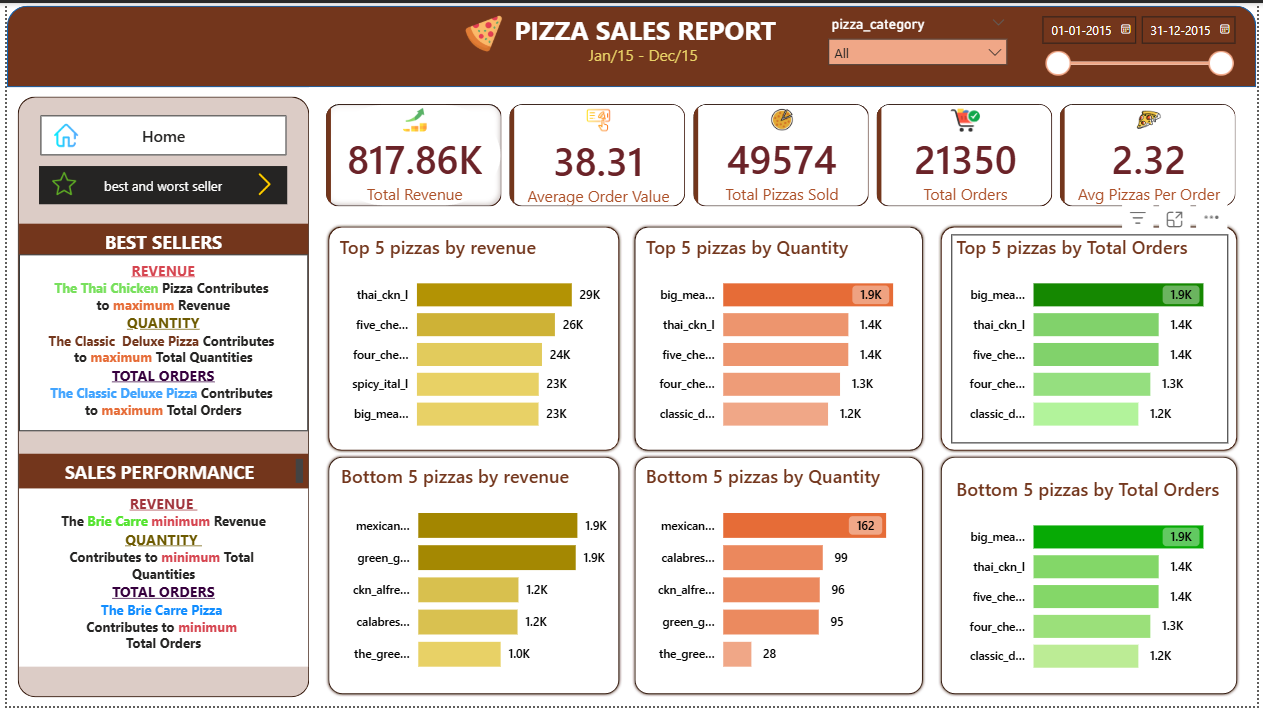

The page's visual inventory and layout, read from the dashboard file:
{"tool":"powerbi","page":{"name":"best and worst seller","canvas":[1280,720],"ordinal":1},"visuals":[{"type":"shape","box":[11,95.9,298.6,615],"z":0},{"type":"shape","box":[0,2.7,1279.4,83.6],"z":1000},{"type":"textbox","box":[500,4.1,316.4,46.6],"z":2000},{"type":"textbox","box":[590.4,37,137,38.4],"z":3000},{"type":"image","box":[464.3,12.3,47.9,38.4],"z":4000},{"type":"cardVisual","fields":{"Data":["pizza_sales.Total Revenue","pizza_sales.Average Order Value","pizza_sales.Total Pizzas Sold","pizza_sales.Total Orders","pizza_sales.Avg Pizzas Per Order"]},"box":[309.6,86.3,969.8,139.7],"z":5000},{"type":"shape","box":[326,226,304.1,235.6],"z":6000},{"type":"shape","box":[953.4,226,309.6,235.6],"z":7000},{"type":"shape","box":[326,461.6,304.1,249.3],"z":8000},{"type":"shape","box":[639.7,461.6,301.3,249.3],"z":9000},{"type":"shape","box":[953.4,461.6,309.6,249.3],"z":10000},{"type":"textbox","box":[12.3,226,295.9,41.1],"z":11000},{"type":"textbox","box":[12.3,257.5,295.9,180.8],"z":12000},{"type":"textbox","box":[12.3,461.6,295.9,35.6],"z":13000},{"type":"textbox","box":[12.3,497.2,295.9,182.2],"z":14000},{"type":"slicer","fields":{"Values":["pizza_sales.pizza_category"]},"box":[831.4,8.2,202.7,64.4],"z":15000},{"type":"slicer","fields":{"Values":["pizza_sales.order_date"]},"box":[1047.9,4.1,216.4,71.2],"z":16000},{"type":"shape","box":[639.7,226,301.3,235.6],"z":17000},{"type":"barChart","title":"Top 5 pizzas by revenue","fields":{"Category":["pizza_sales.pizza_name_id"],"Y":["pizza_sales.Total Revenue"]},"box":[335.6,237,284.9,213.7],"z":18000},{"type":"barChart","title":"Bottom 5 pizzas by revenue","fields":{"Category":["pizza_sales.pizza_name_id"],"Y":["pizza_sales.Total Revenue"]},"box":[337,471.2,283.5,227.4],"z":19000},{"type":"barChart","title":"Top 5 pizzas by Quantity","fields":{"Category":["pizza_sales.pizza_name_id"],"Y":["pizza_sales.Total Pizzas Sold"]},"box":[649.3,237,283.5,213.7],"z":20000},{"type":"barChart","title":"Bottom 5 pizzas by Quantity","fields":{"Category":["pizza_sales.pizza_name_id"],"Y":["pizza_sales.Total Pizzas Sold"]},"box":[649.3,471.2,283.5,227.4],"z":21000},{"type":"barChart","title":"Top 5 pizzas by Total Orders","fields":{"Category":["pizza_sales.pizza_name_id"],"Y":["pizza_sales.Total Pizzas Sold"]},"box":[967,237,283.5,213.7],"z":22000},{"type":"barChart","title":"Bottom 5 pizzas by Total Orders","fields":{"Category":["pizza_sales.pizza_name_id"],"Y":["pizza_sales.Total Pizzas Sold"]},"box":[967,484.9,283.5,213.7],"z":23000},{"type":"pageNavigator","box":[34.2,115.1,252,41.1],"z":24000},{"type":"pageNavigator","box":[32.9,167.1,254.8,39.7],"z":25000},{"type":"image","box":[241.1,174,45.2,23.3],"z":26000},{"type":"image","box":[37,123.3,46.6,24.7],"z":27000},{"type":"image","box":[34.2,172.6,49.3,24.7],"z":28000}]}

Visuals, with their boxes in screenshot pixels (x1, y1, x2, y2), scaled from the page's 1280x720 canvas onto the 1263x710 screenshot:
shape: box(11, 95, 305, 701)
shape: box(0, 3, 1262, 85)
textbox: box(493, 4, 806, 50)
textbox: box(583, 36, 718, 74)
image: box(458, 12, 505, 50)
cardVisual - pizza_sales.Total Revenue x pizza_sales.Average Order Value: box(305, 85, 1262, 223)
shape: box(322, 223, 622, 455)
shape: box(941, 223, 1246, 455)
shape: box(322, 455, 622, 701)
shape: box(631, 455, 929, 701)
shape: box(941, 455, 1246, 701)
textbox: box(12, 223, 304, 263)
textbox: box(12, 254, 304, 432)
textbox: box(12, 455, 304, 490)
textbox: box(12, 490, 304, 670)
slicer - pizza_sales.pizza_category: box(820, 8, 1020, 72)
slicer - pizza_sales.order_date: box(1034, 4, 1248, 74)
shape: box(631, 223, 929, 455)
"Top 5 pizzas by revenue" barChart: box(331, 234, 612, 444)
"Bottom 5 pizzas by revenue" barChart: box(333, 465, 612, 689)
"Top 5 pizzas by Quantity" barChart: box(641, 234, 920, 444)
"Bottom 5 pizzas by Quantity" barChart: box(641, 465, 920, 689)
"Top 5 pizzas by Total Orders" barChart: box(954, 234, 1234, 444)
"Bottom 5 pizzas by Total Orders" barChart: box(954, 478, 1234, 689)
pageNavigator: box(34, 114, 282, 154)
pageNavigator: box(32, 165, 284, 204)
image: box(238, 172, 282, 195)
image: box(37, 122, 82, 146)
image: box(34, 170, 82, 195)
